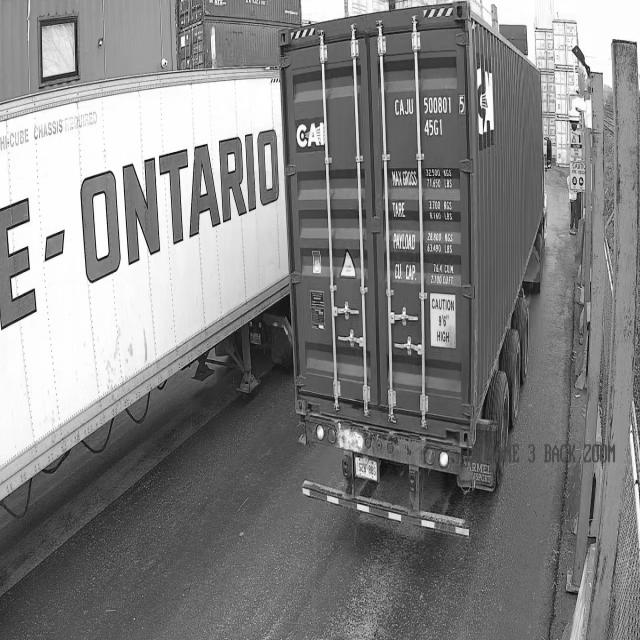container_company_logo: (293, 120, 331, 158)
container_number: (390, 92, 469, 146)
license_plate: (353, 458, 381, 482)
other_container_info: (388, 167, 466, 289)
truck_with_container: (280, 0, 546, 515), (0, 68, 288, 498)
